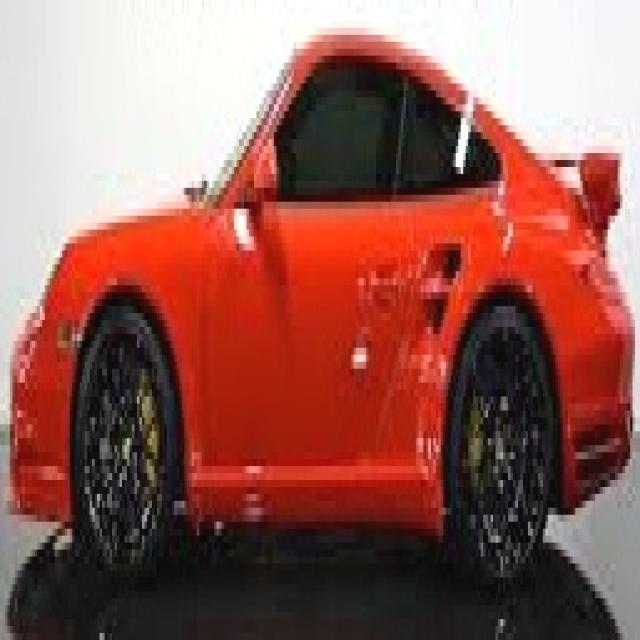red: (15, 30, 635, 582)
